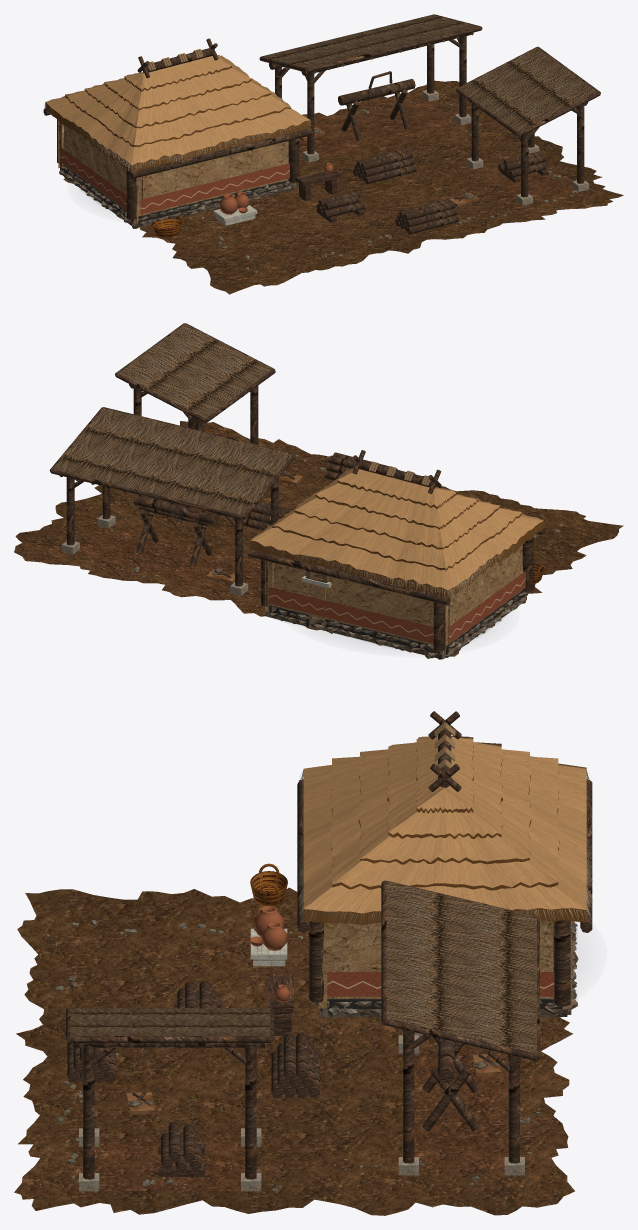
File: saw.glb
3 renders of one model, top to bottom at view 1: azimuth 30°, elevation 25°; view 2: azimuth 150°, elevation 25°; view 3: azimuth 270°, elevation 25°, orthographic. The views are drawn at different scales.
Visible parts, largest first — view 1: part_1, part_8, part_19, part_13, part_11, part_5, part_20, part_23, part_4, part_12, part_21, part_22 (+4 smaller); view 2: part_13, part_19, part_1, part_8, part_5, part_11, part_20, part_23, part_4, part_21, part_22, part_12; view 3: part_1, part_19, part_8, part_13, part_11, part_5, part_20, part_12, part_4, part_23, part_21, part_14 (+4 smaller).
Part boxes in pixels (x1,y1,x2,y2): part_1: [63, 80, 623, 294]; part_8: [43, 14, 600, 234]; part_19: [46, 55, 310, 165]; part_13: [262, 15, 598, 132]; part_11: [299, 99, 575, 201]; part_5: [58, 120, 297, 223]; part_20: [45, 53, 310, 171]; part_23: [59, 146, 289, 214]; part_4: [59, 129, 475, 228]; part_12: [302, 90, 588, 205]; part_21: [44, 70, 312, 173]; part_22: [60, 163, 289, 226]; part_13: [53, 323, 292, 515]; part_19: [251, 467, 543, 590]; part_1: [14, 421, 623, 656]; part_8: [49, 323, 545, 651]; part_5: [265, 545, 529, 654]; part_11: [74, 525, 260, 591]; part_20: [250, 466, 543, 597]; part_23: [268, 571, 525, 643]; part_4: [211, 470, 527, 659]; part_21: [249, 522, 544, 597]; part_22: [269, 590, 526, 657]; part_12: [61, 515, 248, 595]; part_1: [14, 887, 574, 1215]; part_19: [303, 736, 586, 913]; part_8: [66, 711, 592, 1179]; part_13: [70, 881, 536, 1053]; part_11: [94, 1050, 508, 1190]; part_5: [318, 919, 572, 1008]; part_20: [303, 738, 586, 925]; part_12: [79, 1032, 524, 1191]; part_4: [127, 921, 578, 1107]; part_23: [327, 972, 554, 996]; part_21: [297, 768, 592, 926]; part_14: [249, 905, 289, 1002].
Size of the model in its own units: 9.7 by 2.89 by 7.17.
Materials: 24 (18 with a texture image).
